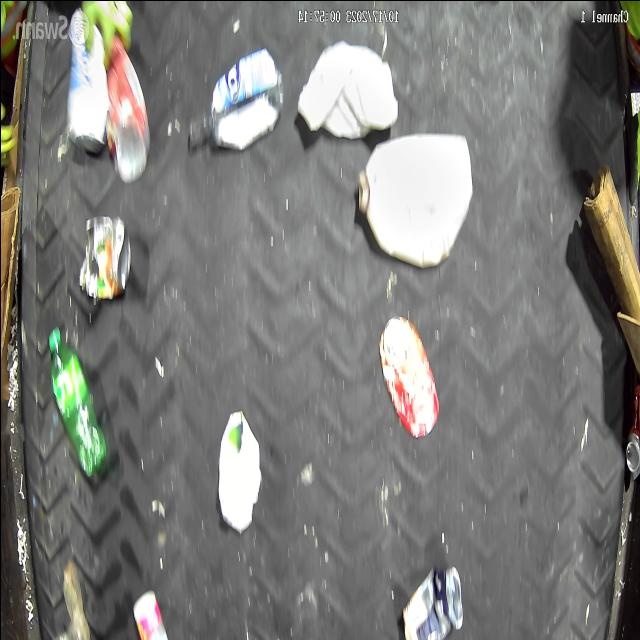can: (76, 214, 128, 300), (625, 384, 640, 478)
milk_jug: (354, 133, 473, 265), (296, 39, 398, 138)
